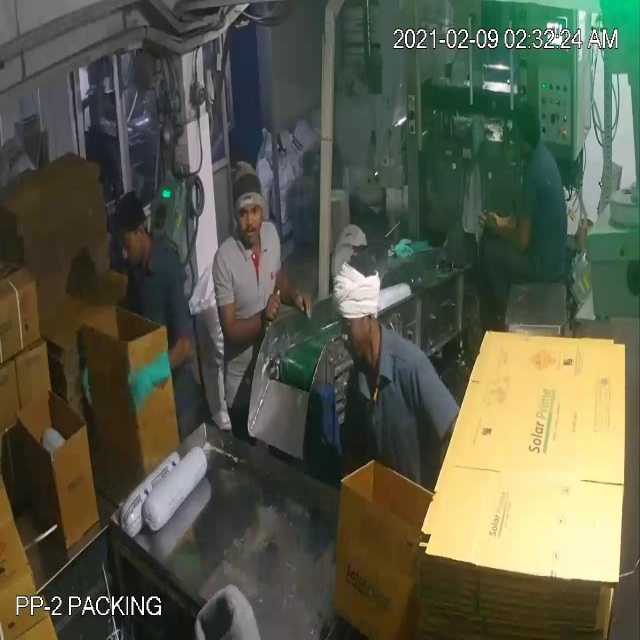Guantes: (126, 351, 176, 429)
Sin_guantes: (472, 176, 534, 266), (214, 284, 283, 354), (267, 259, 316, 320)
